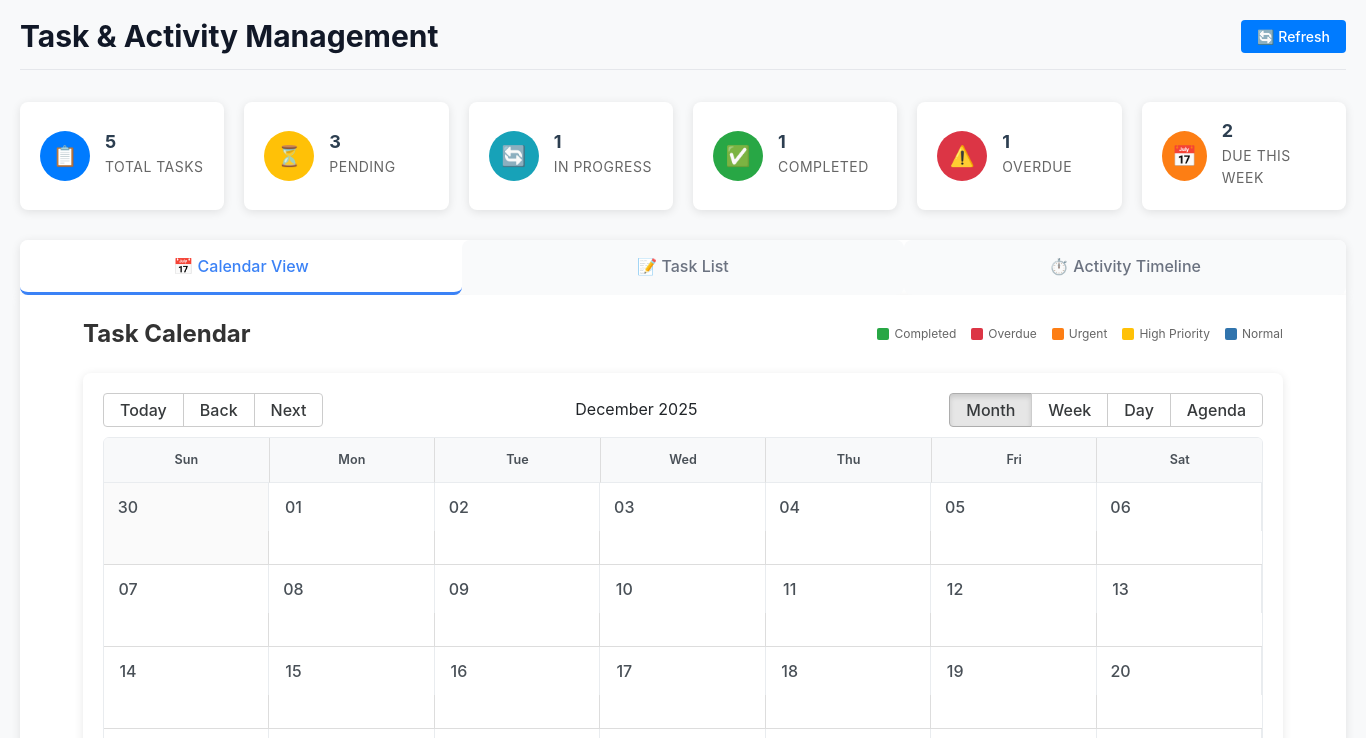
Test: TaskDashboard Component › Task List View › displays recent tasks sorted by most recently updated
Check: the text "Total Tasks" is shown, box [105, 156, 204, 179]
Click the button "📝 Task List" at (683, 267), box [462, 240, 904, 295]
(page scrolled)
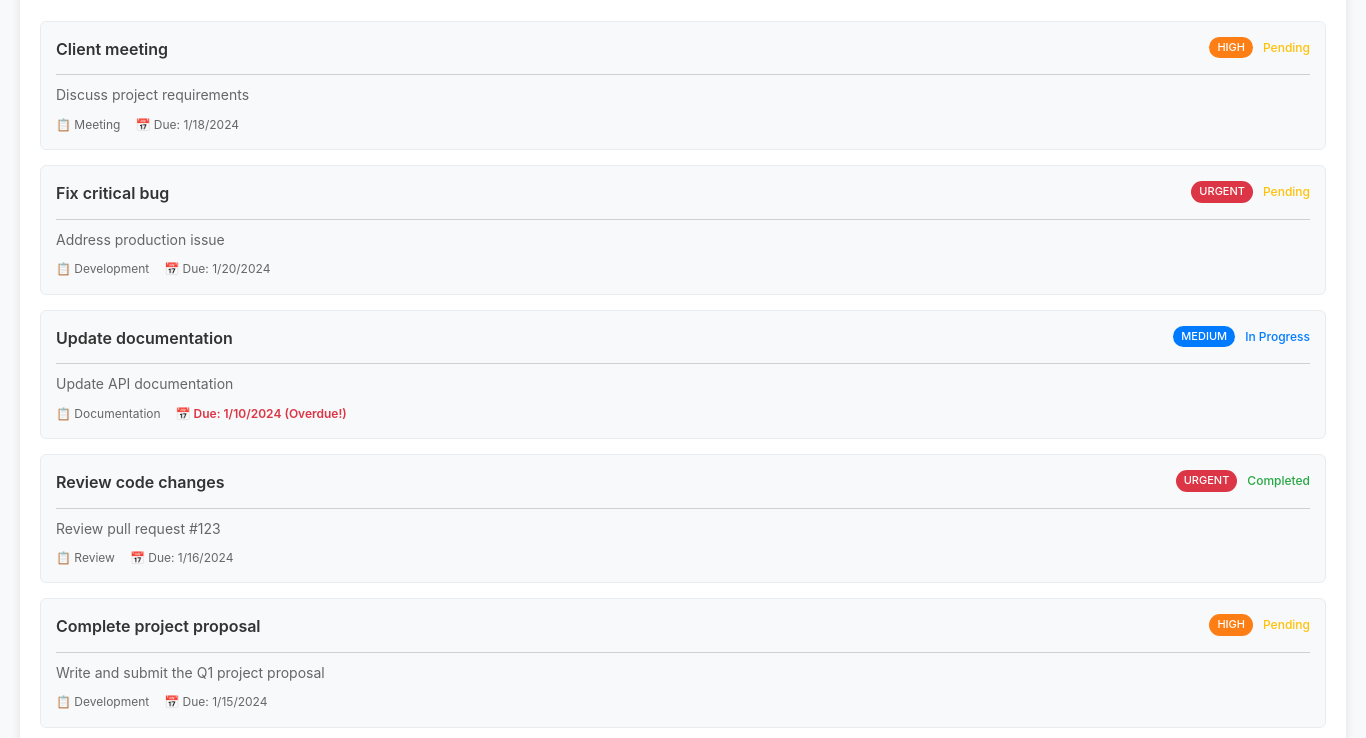
Check: the heading "Fix critical bug" is shown, box [56, 181, 169, 207]
Check: the heading "Client meeting" is shown, box [56, 37, 168, 62]
Check: the heading "Update documentation" is shown, box [56, 326, 233, 351]
